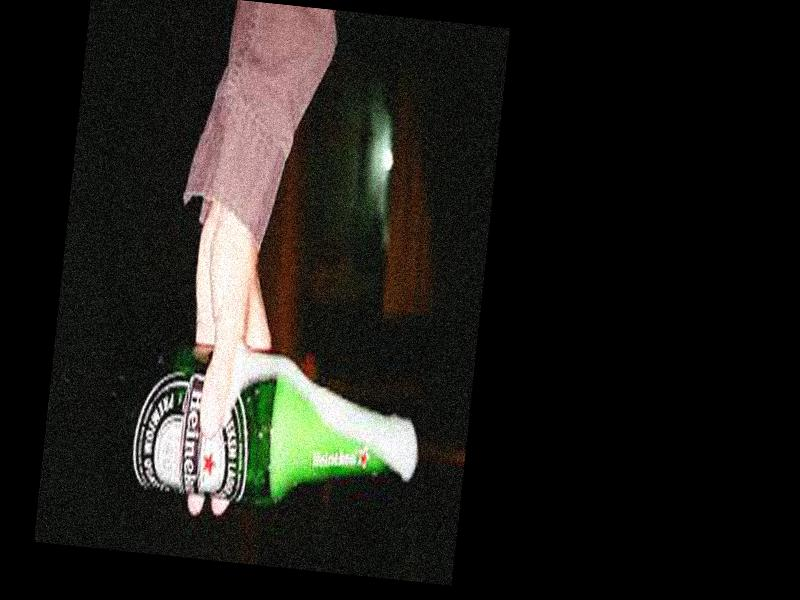Beer: (120, 337, 413, 524)
